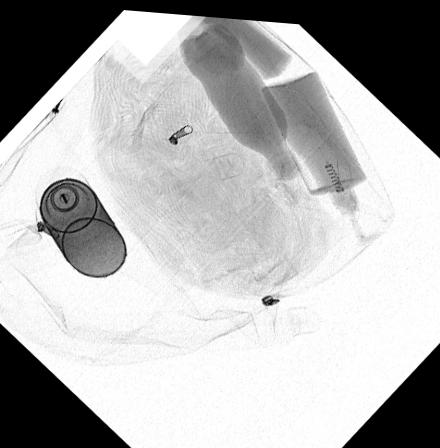Sprayer: (33, 164, 125, 275)
